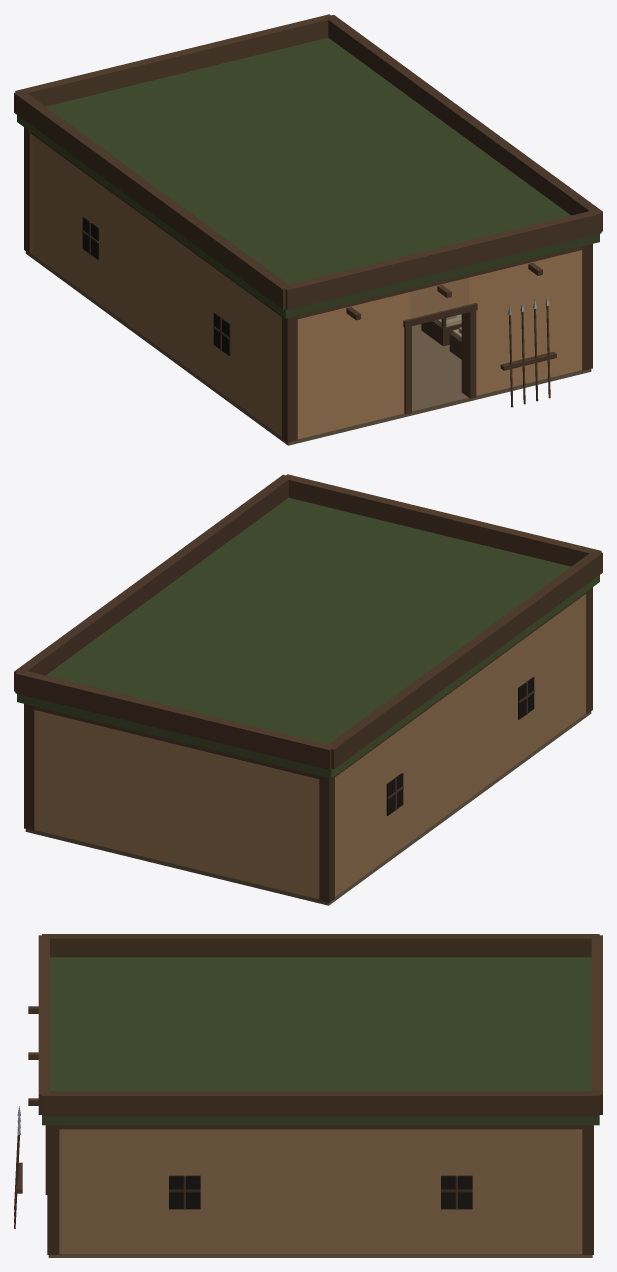
File: walk_steppe_barracks.glb
3 renders of one model, top to bottom at view 1: azimuth 30°, elevation 25°; view 2: azimuth 150°, elevation 25°; view 3: azimuth 270°, elevation 25°, orthographic. The views are drawn at different scales.
Visible parts, largest first — view 1: walk_steppe_barracks_roof, walk_steppe_barracks; view 2: walk_steppe_barracks_roof, walk_steppe_barracks; view 3: walk_steppe_barracks_roof, walk_steppe_barracks.
Part boxes in pixels (bbox=[...]): walk_steppe_barracks_roof: bbox=[14, 14, 602, 318]; walk_steppe_barracks: bbox=[24, 127, 592, 445]; walk_steppe_barracks_roof: bbox=[14, 474, 602, 778]; walk_steppe_barracks: bbox=[24, 587, 592, 905]; walk_steppe_barracks_roof: bbox=[38, 934, 602, 1125]; walk_steppe_barracks: bbox=[14, 1006, 593, 1257].
Size of what is drawn, in the model's own units: 8.45 by 4.05 by 12.99.
2 materials, 2 textured.
